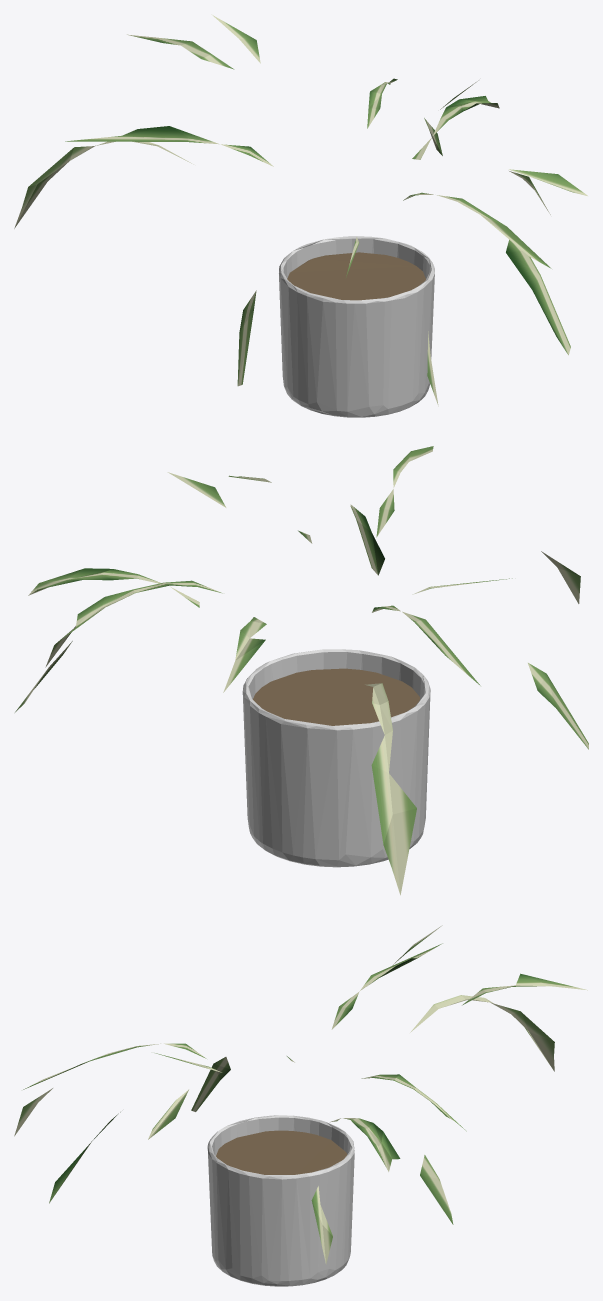
File: bush_spider_plant.glb
3 renders of one model, top to bottom at view 1: azimuth 30°, elevation 25°; view 2: azimuth 150°, elevation 25°; view 3: azimuth 270°, elevation 25°, orthographic. The views are drawn at different scales.
Visible parts, largest first — view 1: Circle, Plane.020, Circle.001; view 2: Circle, Plane.020, Circle.001; view 3: Circle, Plane.020, Circle.001.
Part boxes in pixels (x1,y1,x2,y2): Circle: (279, 236, 434, 417); Plane.020: (14, 14, 587, 406); Circle.001: (287, 252, 425, 300); Circle: (242, 649, 430, 867); Plane.020: (15, 446, 588, 895); Circle.001: (253, 668, 419, 725); Circle: (207, 1115, 354, 1286); Plane.020: (14, 925, 587, 1264); Circle.001: (216, 1130, 347, 1174).
Size of the model in its own units: 0.4211 by 0.3087 by 0.5222.
3 materials, 1 textured.
